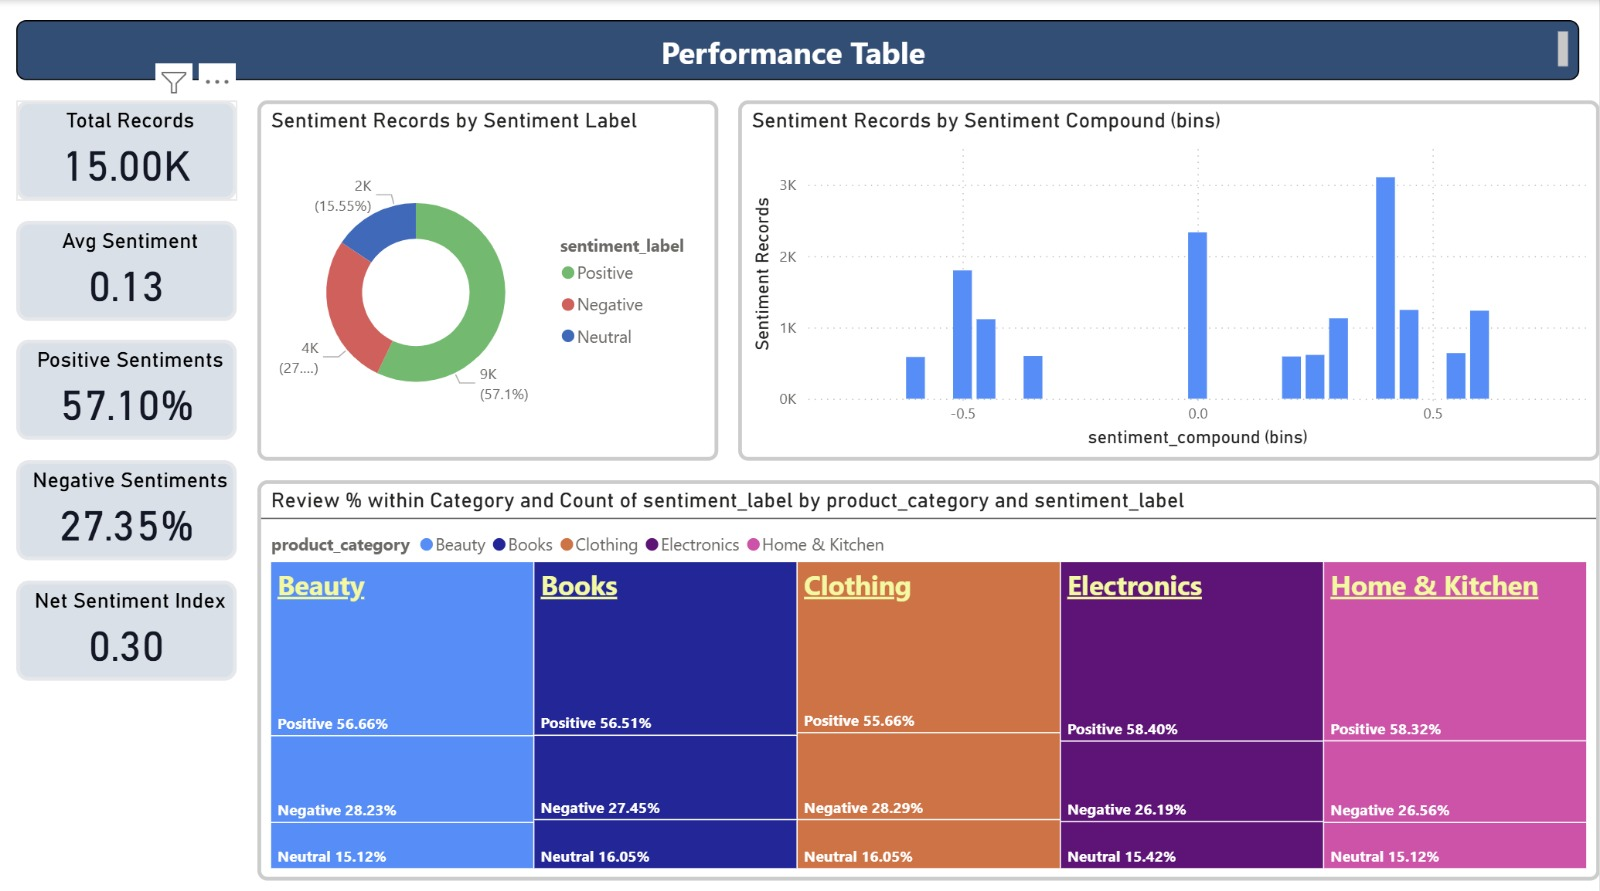

Layout of this report page (visuals, bound fields, positions):
{"tool":"powerbi","page":{"name":"Performance Table","canvas":[1280,720],"ordinal":4},"visuals":[{"type":"textbox","box":[16,16,1248,48],"z":0},{"type":"card","title":"Total Records","fields":{"Values":["dm_review_sentiment.Sentiment Records"]},"box":[16,80,176,80],"z":1000},{"type":"card","title":"Avg Sentiment","fields":{"Values":["Avg(dm_review_sentiment.sentiment_compound)"]},"box":[16,176,176,80],"z":2000},{"type":"card","title":"Positive Sentiments","fields":{"Values":["dm_review_sentiment.Positive %"]},"box":[16,272,176,80],"z":3000},{"type":"card","title":"Negative Sentiments","fields":{"Values":["dm_review_sentiment.Negative %"]},"box":[16,368,176,80],"z":4000},{"type":"card","title":"Net Sentiment Index","fields":{"Values":["dm_review_sentiment.Net Sentiment Index"]},"box":[16,464,176,80],"z":5000},{"type":"donutChart","title":"Sentiment Records by Sentiment Label","fields":{"Y":["dm_review_sentiment.Sentiment Records"],"Category":["dm_review_sentiment.sentiment_label"]},"box":[208,80,368,288],"z":6000},{"type":"clusteredColumnChart","title":"Sentiment Records by Sentiment Compound (bins)","fields":{"Category":["dm_review_sentiment.sentiment_compound (bins)"],"Y":["dm_review_sentiment.Sentiment Records"]},"box":[592,80,688,288],"z":7000},{"type":"treemap","fields":{"Values":["dm_review_sentiment.Review % within Category"],"Group":["dim_product.product_category"],"Details":["dm_review_sentiment.sentiment_label"]},"box":[208,384,1072,320],"z":8000}]}

Visuals, with their boxes in screenshot pixels (x1, y1, x2, y2), scaled from the page's 1280x720 canvas onto the 1600x891 screenshot:
textbox: left=20, top=20, right=1580, bottom=79
"Total Records" card: left=20, top=99, right=240, bottom=198
"Avg Sentiment" card: left=20, top=218, right=240, bottom=317
"Positive Sentiments" card: left=20, top=337, right=240, bottom=436
"Negative Sentiments" card: left=20, top=455, right=240, bottom=554
"Net Sentiment Index" card: left=20, top=574, right=240, bottom=673
"Sentiment Records by Sentiment Label" donutChart: left=260, top=99, right=720, bottom=455
"Sentiment Records by Sentiment Compound (bins)" clusteredColumnChart: left=740, top=99, right=1599, bottom=455
treemap - dm_review_sentiment.Review % within Category x dim_product.product_category: left=260, top=475, right=1599, bottom=871
